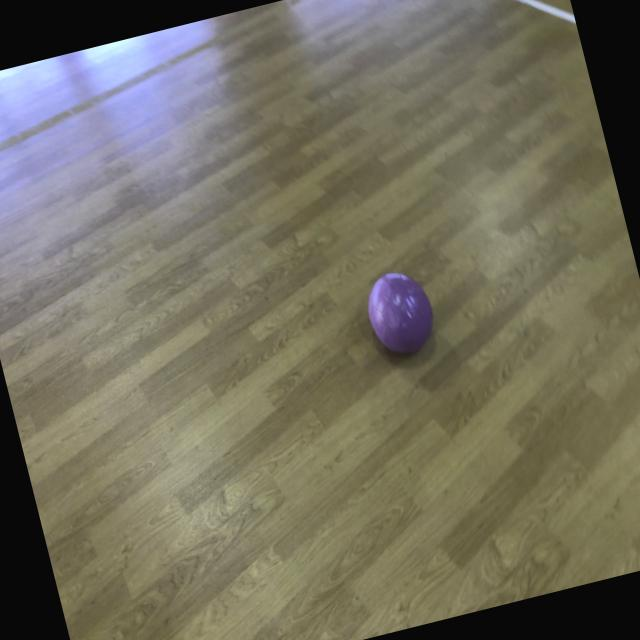purple_ball: (360, 266, 438, 360)
